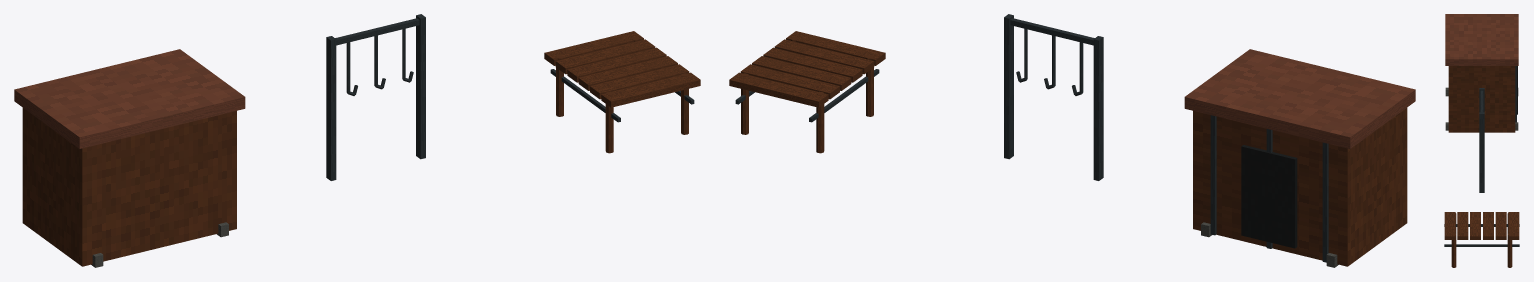
Rendered from KIT_rexa_slaughterhouse.gltf.
The picture shows the model from 3 angles, left to right: view 1: azimuth 30°, elevation 25°; view 2: azimuth 150°, elevation 25°; view 3: azimuth 270°, elevation 25°; orthographic projection. The views are drawn at different scales.
Visible parts, largest first — view 1: 01_warehouse, 03_pier, 02_rail; view 2: 01_warehouse, 03_pier, 02_rail; view 3: 01_warehouse, 03_pier, 02_rail.
Part boxes in pixels (<box>): 01_warehouse: <box>14,49,245,267</box>; 03_pier: <box>544,31,700,153</box>; 02_rail: <box>326,14,425,180</box>; 01_warehouse: <box>1184,49,1415,267</box>; 03_pier: <box>729,31,885,153</box>; 02_rail: <box>1004,14,1103,180</box>; 01_warehouse: <box>1445,14,1518,132</box>; 03_pier: <box>1444,212,1519,267</box>; 02_rail: <box>1479,88,1484,192</box>.
Size of the model in its own units: 13.85 by 3.35 by 2.6.
Materials: 5 (5 with a texture image).
